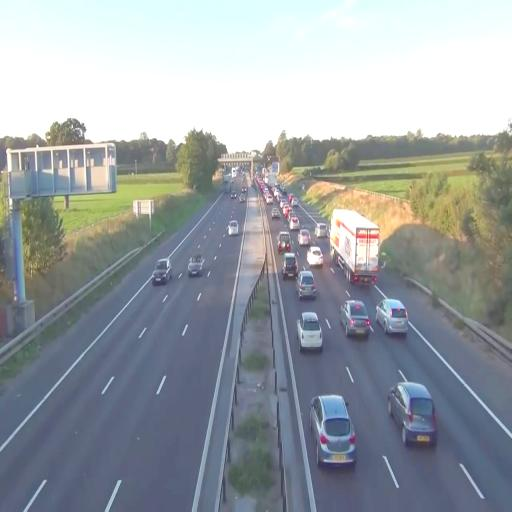vehicle: (330, 208, 380, 284), (309, 393, 356, 468), (387, 380, 438, 447), (340, 300, 371, 340), (376, 297, 408, 335), (296, 310, 324, 352), (297, 269, 316, 298), (152, 258, 172, 285), (187, 254, 205, 278), (282, 252, 298, 278), (306, 246, 324, 268), (312, 222, 330, 242), (277, 230, 291, 254), (227, 218, 240, 236), (270, 205, 282, 221)
